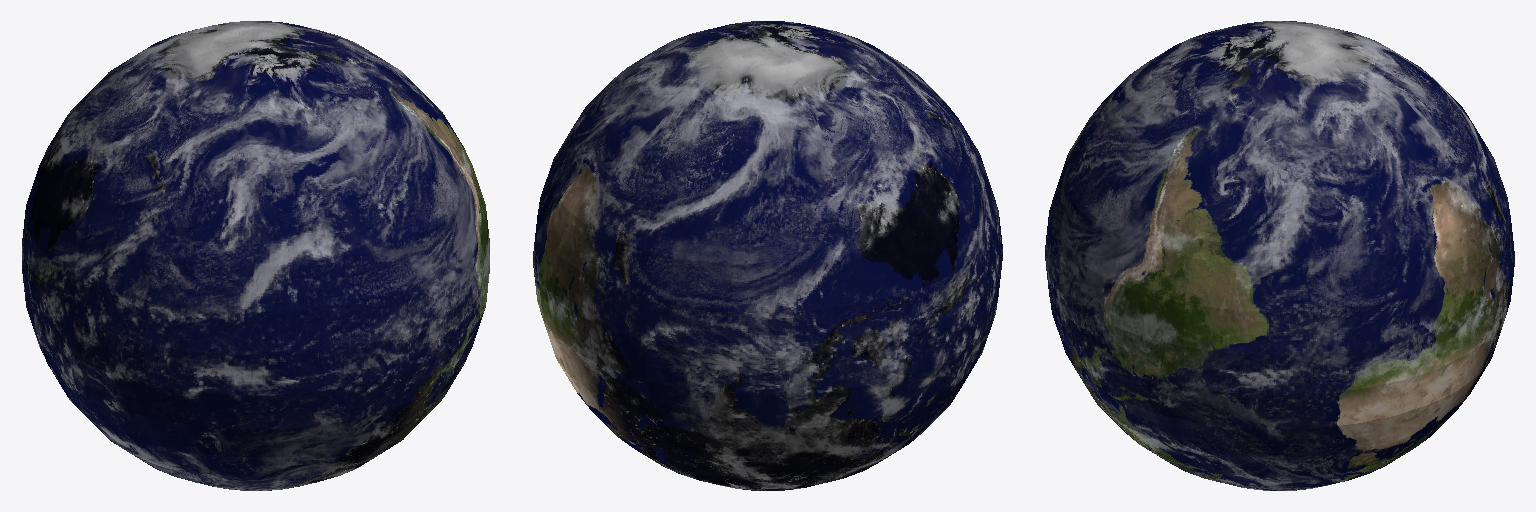
3 renders of one model, left to right at view 1: azimuth 30°, elevation 25°; view 2: azimuth 150°, elevation 25°; view 3: azimuth 270°, elevation 25°, orthographic.
Visible parts, largest first — view 1: Earth; view 2: Earth; view 3: Earth.
Boxes of the visible parts, x1,y1,x2,y2 form: Earth: [22, 21, 489, 490]; Earth: [533, 21, 1002, 490]; Earth: [1045, 21, 1514, 490].
Bounding box in the file's own units: 0.8996 × 0.9 × 0.8996.
1 materials, 1 textured.